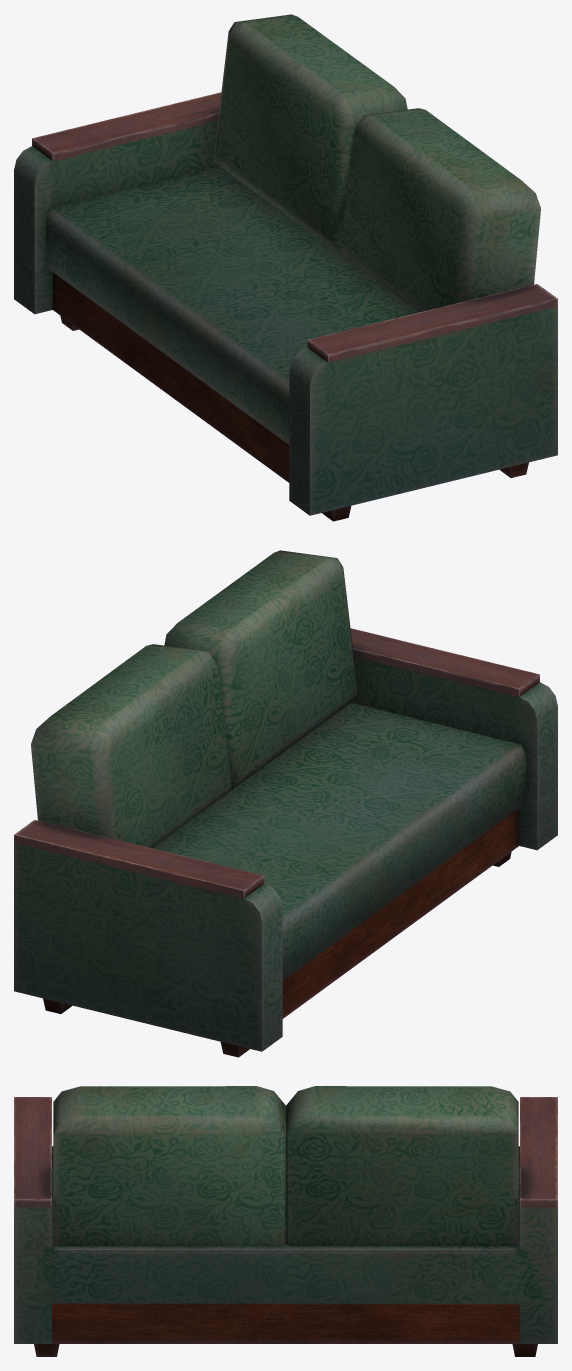
File: green-couch.glb
The picture shows the model from 3 angles, top to bottom: view 1: azimuth 30°, elevation 25°; view 2: azimuth 150°, elevation 25°; view 3: azimuth 270°, elevation 25°; orthographic projection. The views are drawn at different scales.
Parts seen in each view (by area): view 1: MSH_Sofa_Soviet; view 2: MSH_Sofa_Soviet; view 3: MSH_Sofa_Soviet.
Boxes of the visible parts, <box> form: MSH_Sofa_Soviet: <box>14,14,557,521</box>; MSH_Sofa_Soviet: <box>14,550,557,1057</box>; MSH_Sofa_Soviet: <box>14,1086,557,1356</box>.
Bounding box in the file's own units: 101 × 106 × 205.
Materials: 1 (1 with a texture image).
